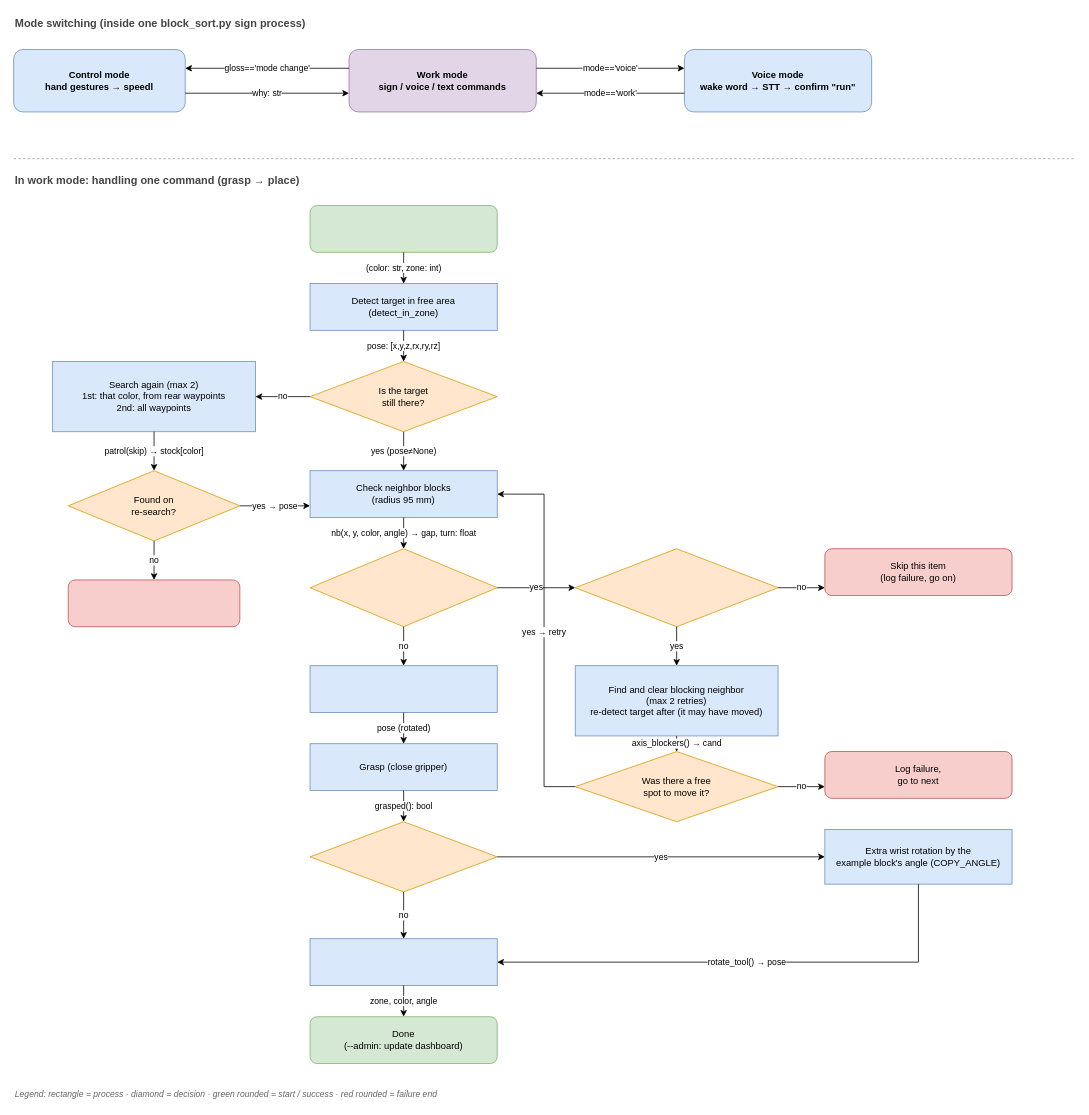
The diagram is 1089 pixels wide and 1115 high, and some of its shapes have lost their labels. Here are the shapes that lost their labels. From the top down, the box of each, then its label:
(309, 205, 497, 252): Command received (color, zone) or (zone, zone)
(67, 579, 240, 627): Log failure → next command
(309, 548, 497, 627): Finger gap too small on both axes?
(574, 548, 778, 627): RELOCATE_BLOCKERS on?
(309, 665, 497, 713): Pick wrist rotation (±90°) toward the axis with room
(309, 821, 497, 892): Copy mode with rotation applied?
(309, 938, 497, 986): Move to zone and place
